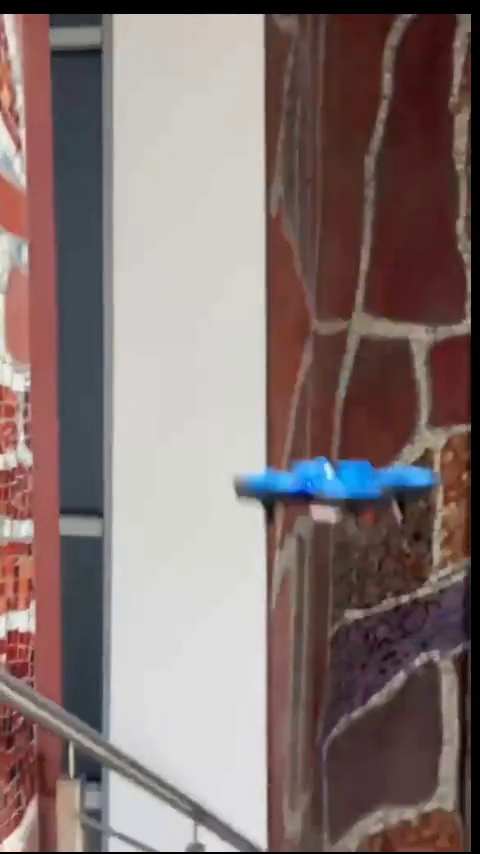drone: (246, 461, 439, 524)
